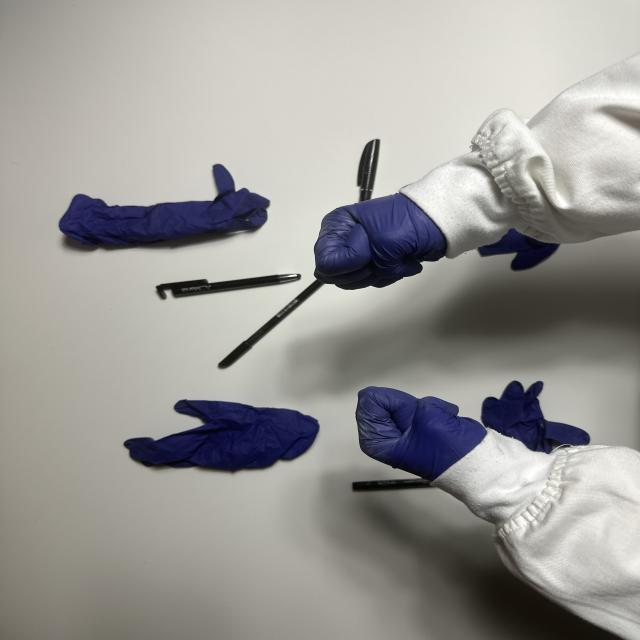gloves_contaminated: (314, 194, 447, 288), (356, 386, 487, 481)
